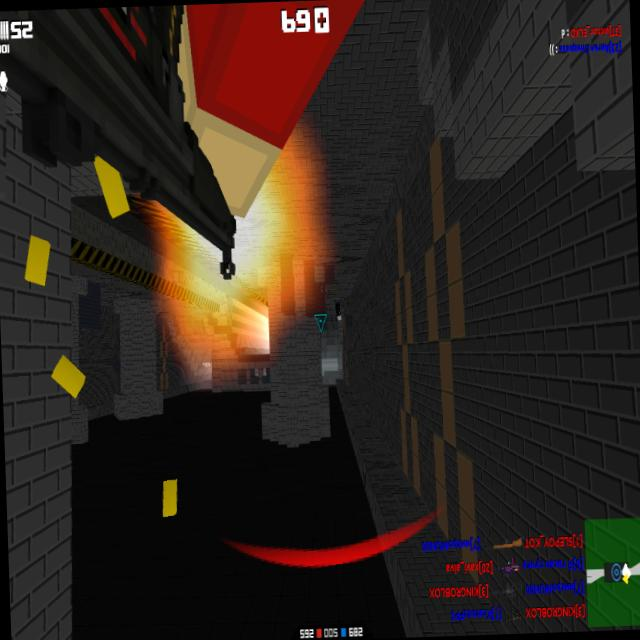enemy: (334, 300, 341, 321)
